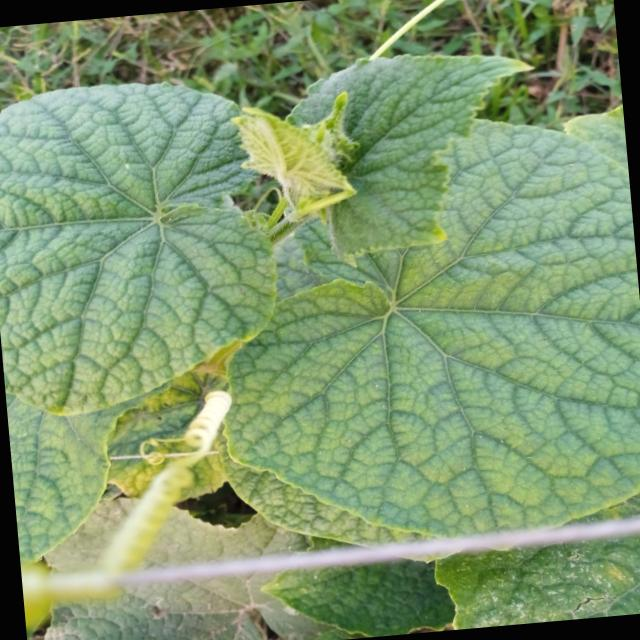cucumber_healthy: (194, 96, 640, 578), (0, 65, 289, 425), (228, 35, 552, 268), (6, 388, 138, 572)
